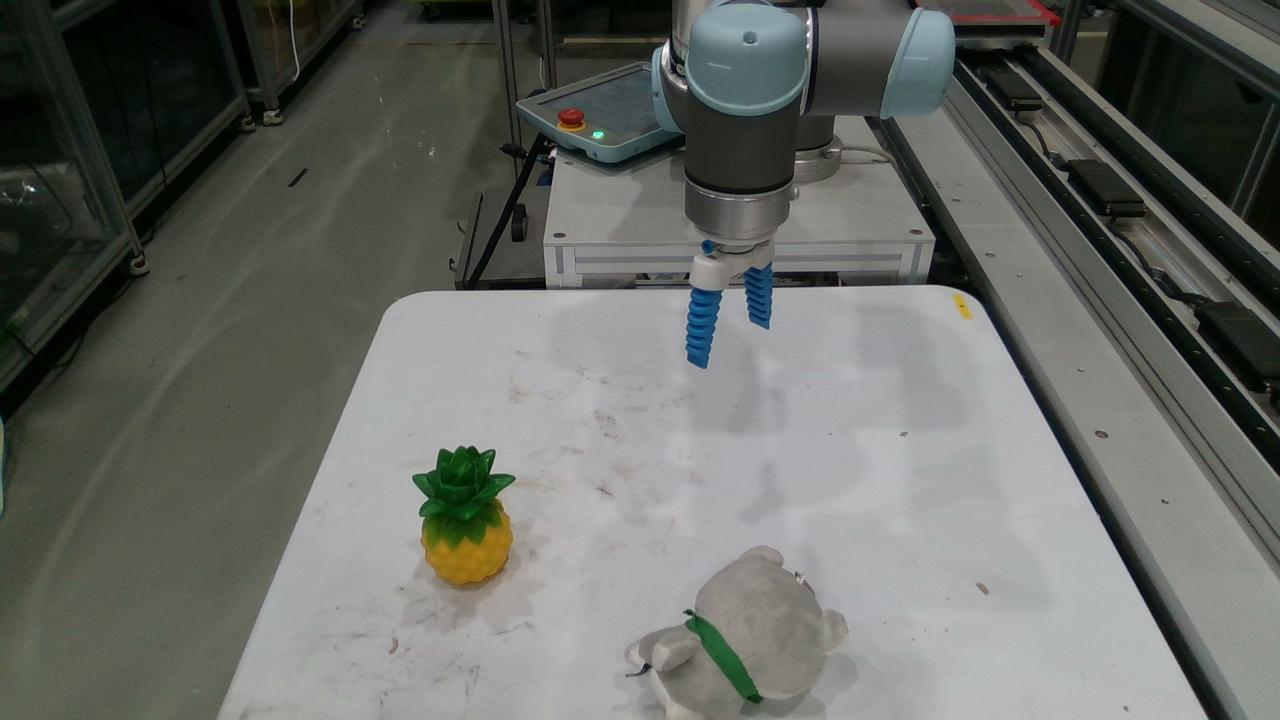UR5: (650, 0, 950, 289)
gripper_left: (688, 288, 718, 366)
gripper_right: (746, 267, 772, 327)
target: (628, 547, 846, 719), (414, 447, 510, 584)
